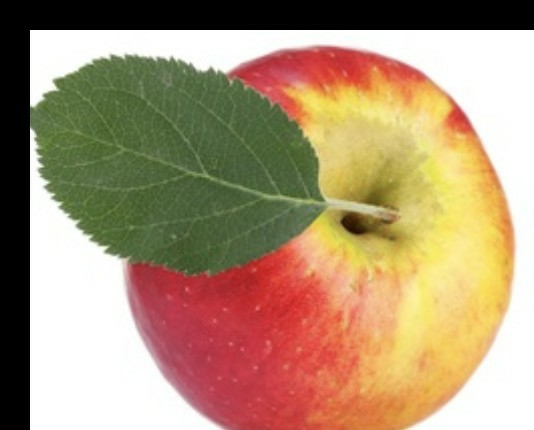normal_apple: (128, 45, 512, 430)
